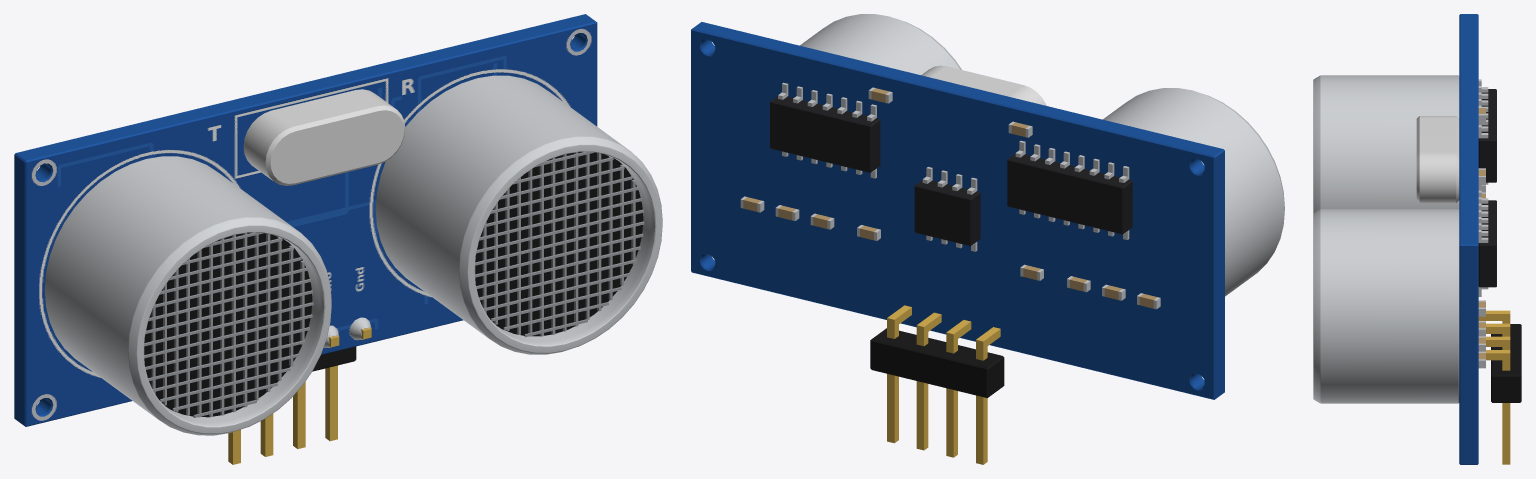
File: ultrasonic_sensor.glb
3 renders of one model, left to right at view 1: azimuth 30°, elevation 25°; view 2: azimuth 150°, elevation 25°; view 3: azimuth 270°, elevation 25°, orthographic. The views are drawn at different scales.
Visible parts, largest first — view 1: PCB, Transducer_T_Can, Transducer_R_Can, Transducer_R_Mesh, Transducer_T_Mesh, Transducer_R_Felt, Transducer_T_Felt, Crystal_8MHz, Header_Pins; view 2: PCB, Transducer_T_Can, IC_Driver_SO16, IC_OpAmp_SO14, Transducer_R_Can, Header_Spacer, Header_Pins, IC_MCU_SO8, SMD_Passives, Crystal_8MHz, IC_Driver_SO16_Leads, SMD_Terminals (+2 smaller); view 3: Transducer_R_Can, Transducer_T_Can, PCB, Crystal_8MHz, Header_Pins, Header_Spacer, IC_OpAmp_SO14, IC_Driver_SO16, SMD_Terminals, IC_OpAmp_SO14_Leads, IC_Driver_SO16_Leads, SMD_Passives.
Boxes of the visible parts, x1,y1,x2,y2 form: PCB: (14,14,597,426); Transducer_T_Can: (44,156,331,435); Transducer_R_Can: (375,75,662,354); Transducer_R_Mesh: (474,152,644,337); Transducer_T_Mesh: (143,232,313,417); Transducer_R_Felt: (475,152,643,336); Transducer_T_Felt: (144,232,312,417); Crystal_8MHz: (243,89,405,185); Header_Pins: (228,327,371,464); PCB: (691,22,1224,399); Transducer_T_Can: (1103,88,1284,296); IC_Driver_SO16: (1007,154,1132,234); IC_OpAmp_SO14: (770,96,880,172); Transducer_R_Can: (800,14,961,74); Header_Spacer: (870,328,1004,398); Header_Pins: (887,305,1000,464); IC_MCU_SO8: (914,180,980,246); SMD_Passives: (743,88,1157,308); Crystal_8MHz: (921,65,1046,105); IC_Driver_SO16_Leads: (1015,140,1129,239); SMD_Terminals: (740,87,1160,309); Transducer_R_Can: (1313,209,1459,403); Transducer_T_Can: (1313,75,1459,212); PCB: (1459,14,1478,464); Crystal_8MHz: (1416,116,1459,203); Header_Pins: (1478,310,1510,464); Header_Spacer: (1491,324,1521,402); IC_OpAmp_SO14: (1478,200,1496,287); IC_Driver_SO16: (1478,89,1496,182); SMD_Terminals: (1478,106,1485,368); IC_OpAmp_SO14_Leads: (1478,190,1488,296); IC_Driver_SO16_Leads: (1478,79,1488,190); SMD_Passives: (1478,108,1485,359).
Bounding box in the file's own units: 0.045 × 0.0285 × 0.0171.
11 materials, 1 textured.
